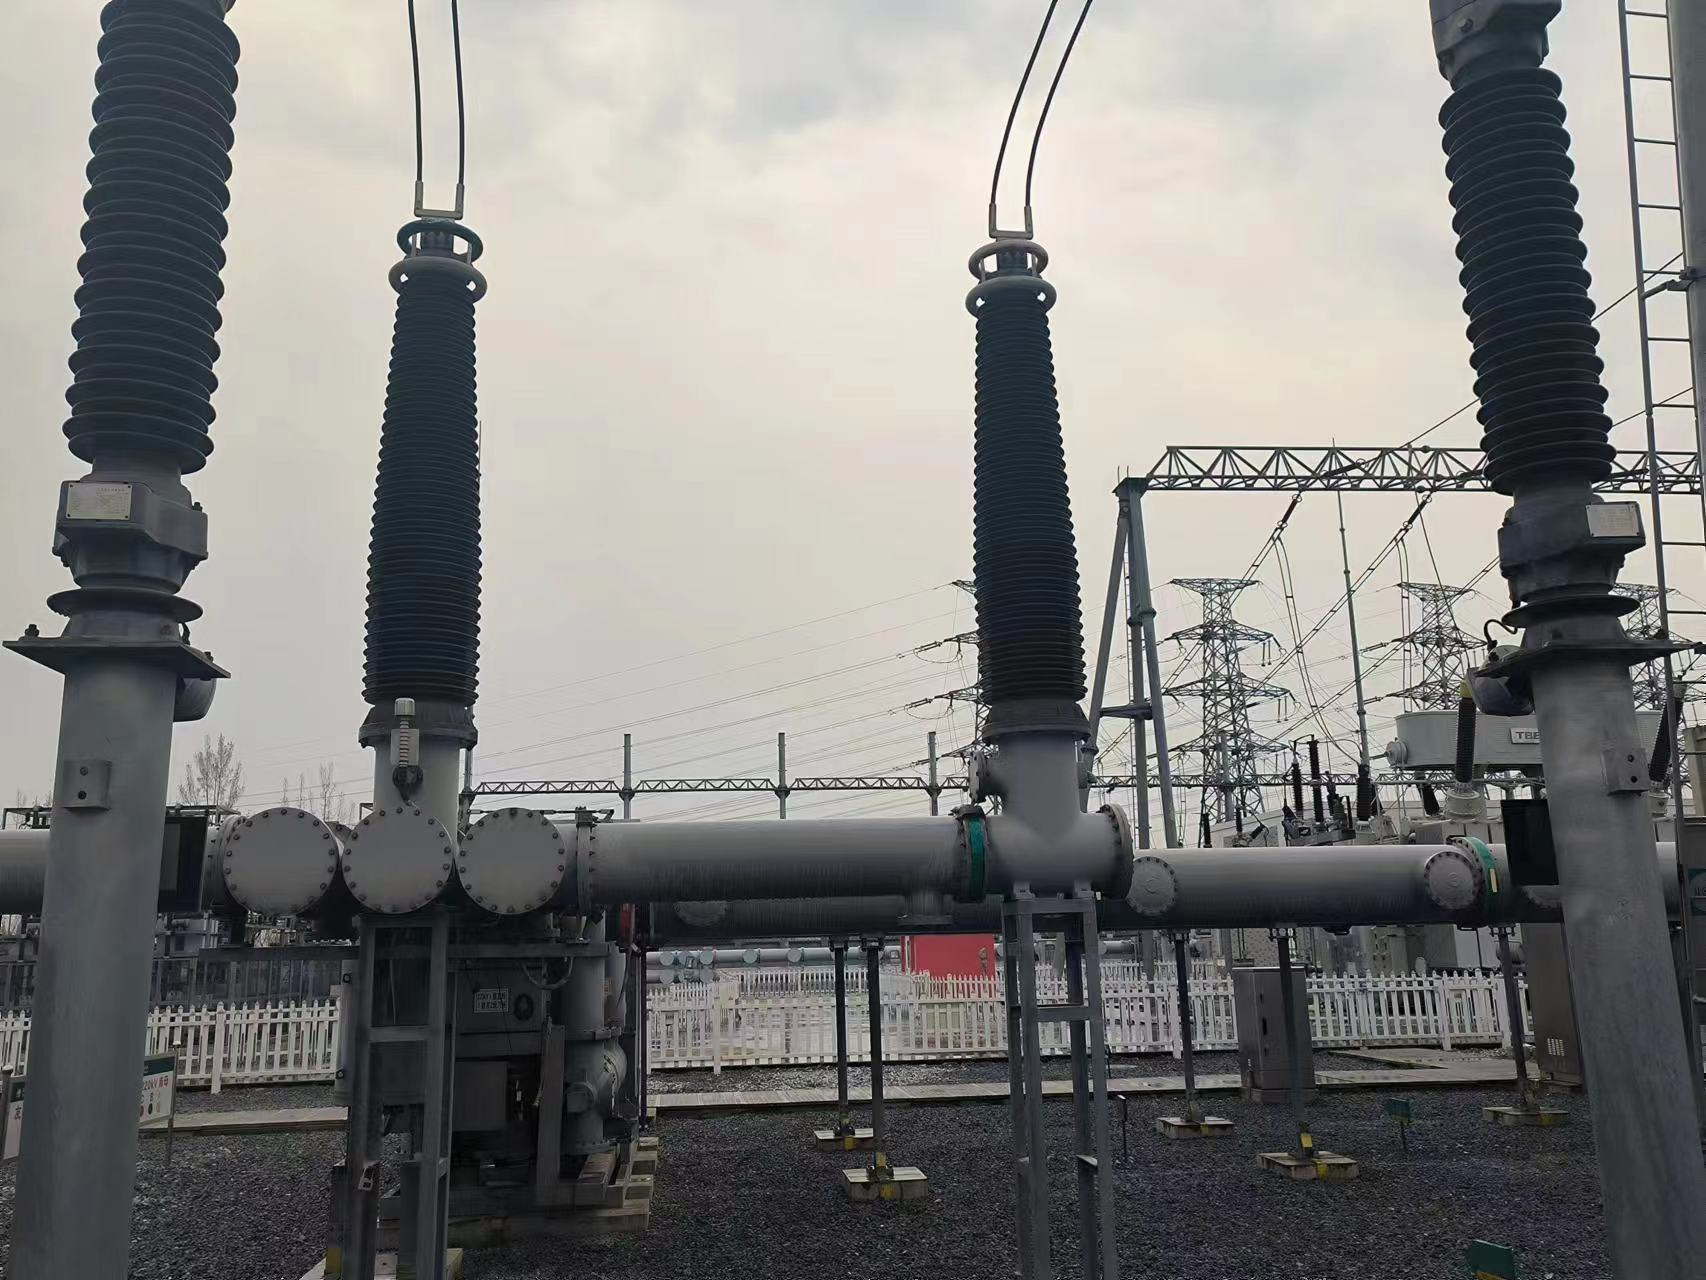Voltage transformer: (362, 223, 493, 714), (959, 238, 1089, 714)
